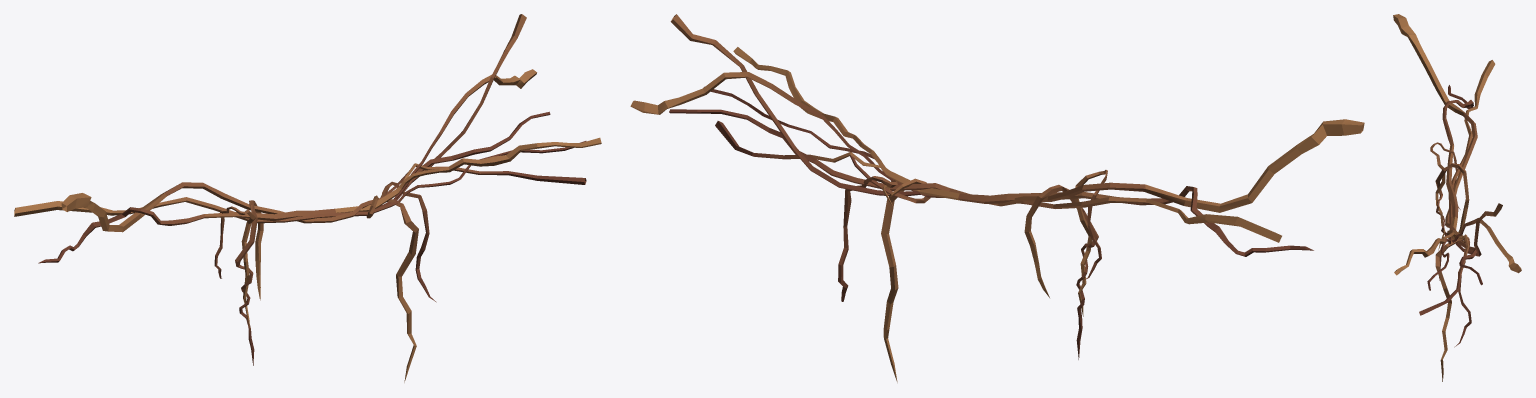
File: ZLP_Plant_Vine_A_1.FBX
3 views of the same model, side by side, from view 1: azimuth 30°, elevation 25°; view 2: azimuth 150°, elevation 25°; view 3: azimuth 270°, elevation 25° (orthographic). The views are drawn at different scales.
Visible parts, largest first — view 1: ZLP_Plant_Vine_A_1; view 2: ZLP_Plant_Vine_A_1; view 3: ZLP_Plant_Vine_A_1.
Boxes of the visible parts, x1,y1,x2,y2 form: ZLP_Plant_Vine_A_1: (14,14,601,382); ZLP_Plant_Vine_A_1: (630,14,1364,382); ZLP_Plant_Vine_A_1: (1393,14,1521,381).
Size of the model in its own units: 1174 by 623 by 303.
